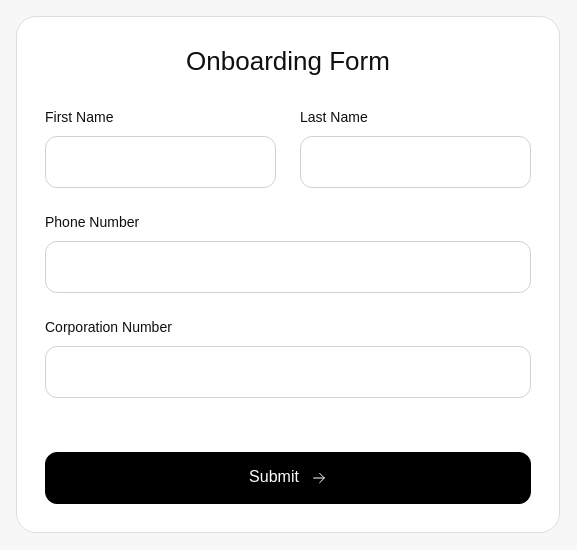
Test case: validates untouched fields on submit and focuses the first invalid field
This screenshot has width=577, height=550.
Click the button "Submit" at (288, 478), box top-left (45, 452), bottom-right (531, 504)
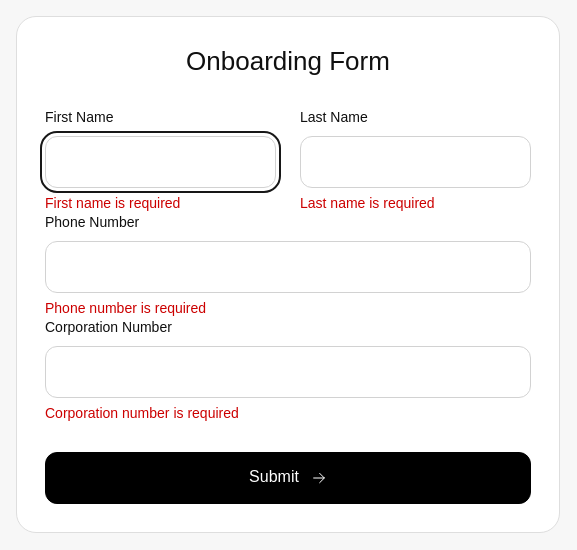
Expected: the text "First name is required" is shown, top-left (45, 194), bottom-right (180, 210)
Expected: the text "Last name is required" is shown, top-left (300, 194), bottom-right (435, 210)
Expected: the text "Phone number is required" is shown, top-left (45, 300), bottom-right (206, 316)
